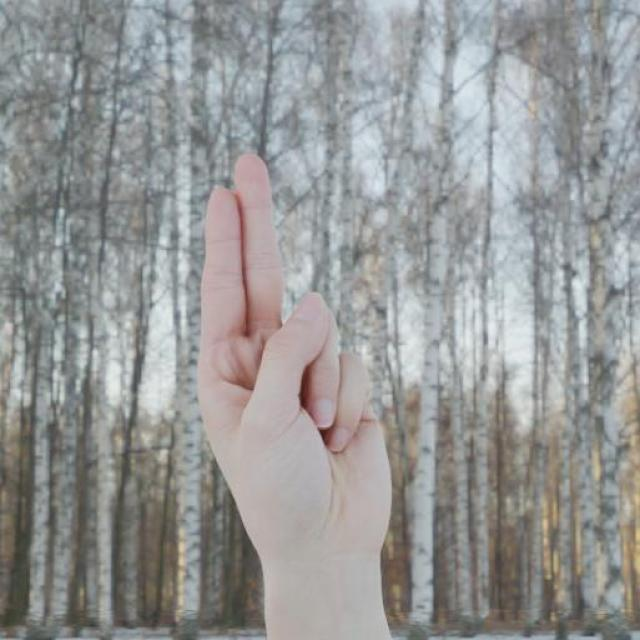U: (193, 145, 404, 590)
